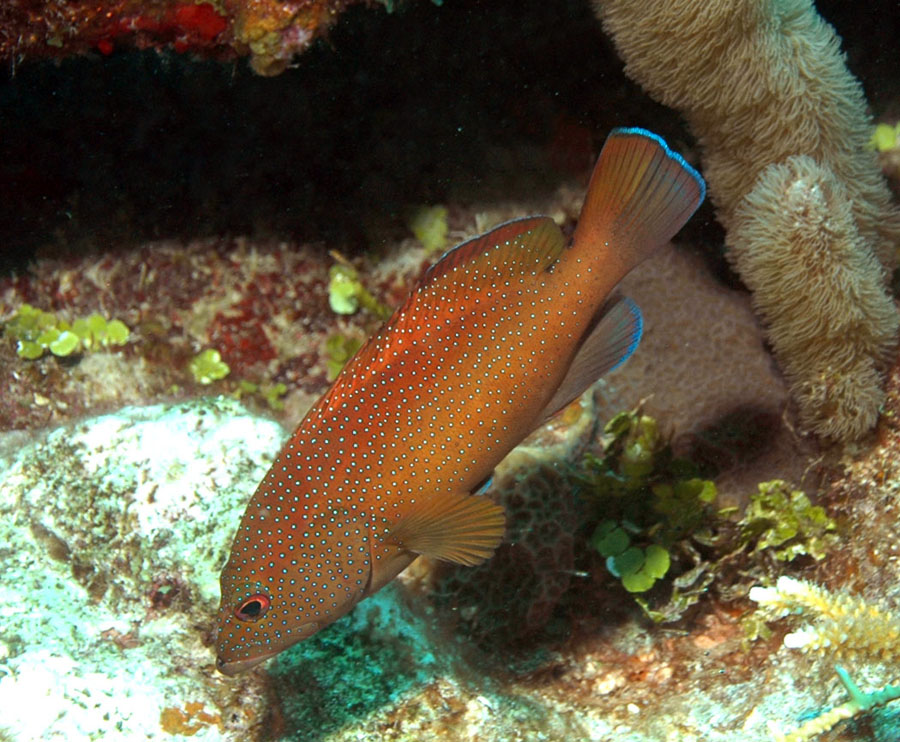Cephalopholis_fulvaw: (159, 102, 793, 710)
